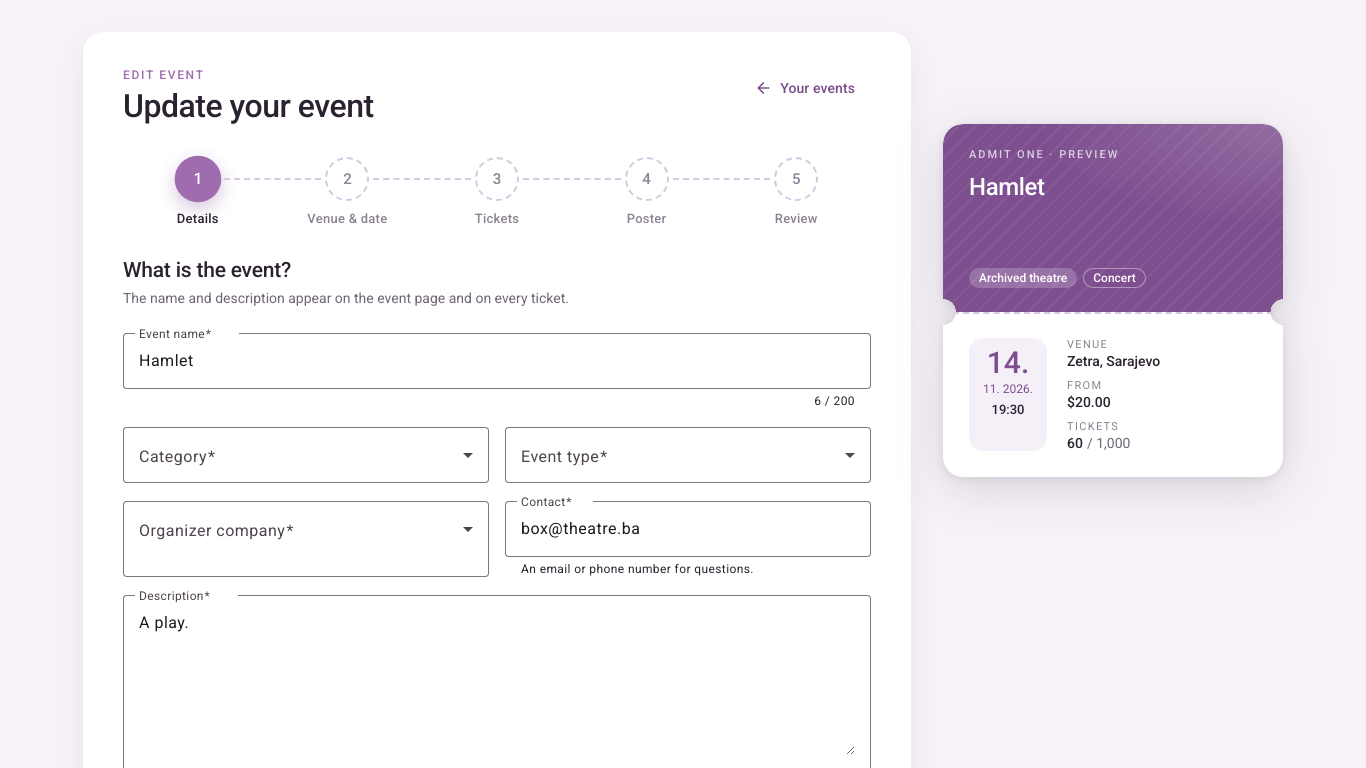
EventWizardComponent › checks the date again before saving, in case the event start has passed meanwhile
The image size is (1366, 768).
Click the tab with class "track__button" showing "5 Review": (796, 191) [721,157,871,226]
(page scrolled)
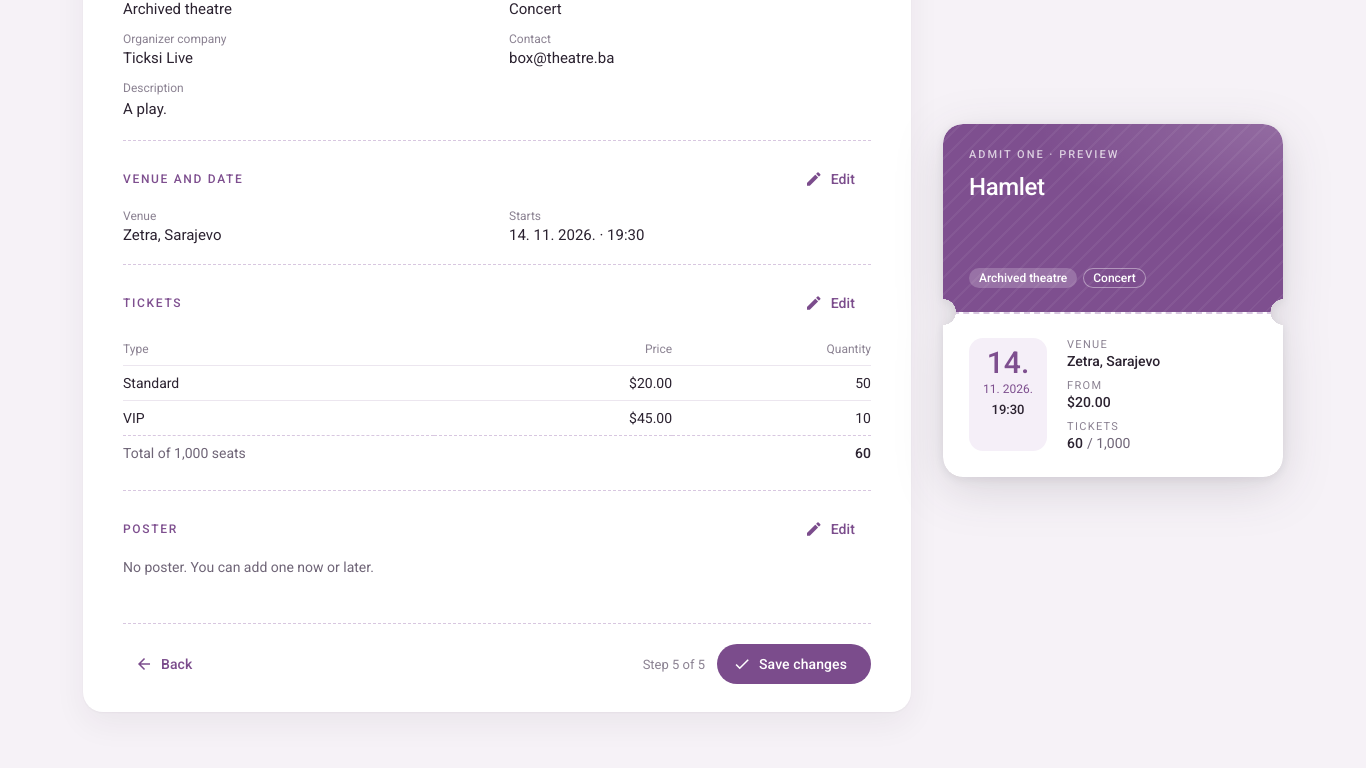
Click the button "Save changes": (794, 664) [717,644,871,684]
(page scrolled)
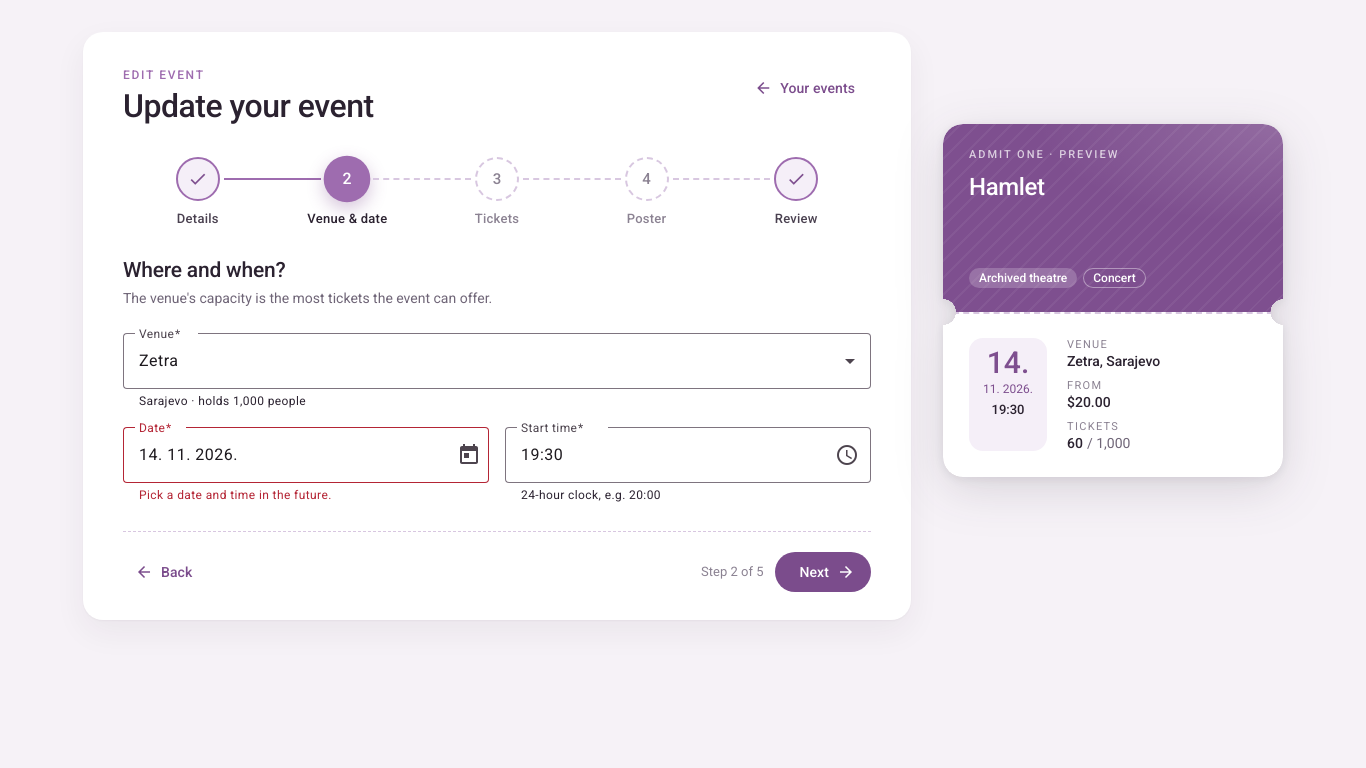
Expected: the tab with class "track__button" shows "Venue & date", [273,157,422,226]
Now the text "Pick a date and time in the future." is shown, box [139,488,332,502]
